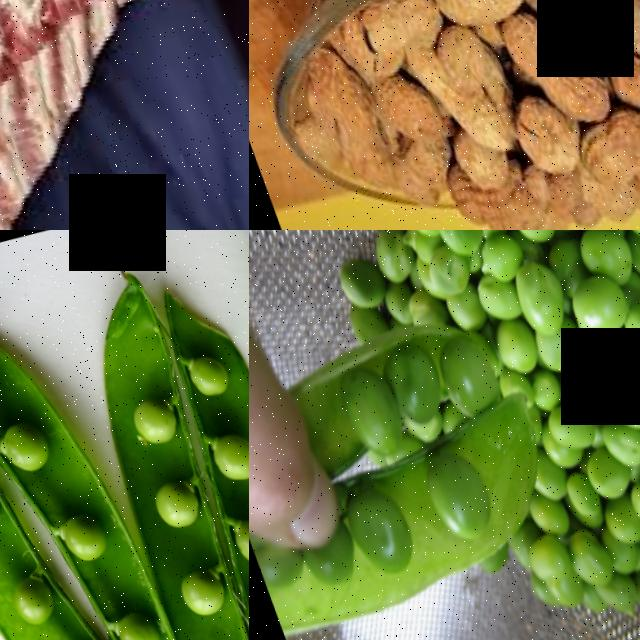peanuts: (422, 24, 515, 160), (499, 88, 579, 182), (490, 6, 563, 104), (562, 100, 640, 191), (537, 0, 640, 68), (421, 0, 534, 34)
peas: (418, 230, 640, 640)
pork belly: (0, 0, 91, 230), (0, 0, 213, 55)
